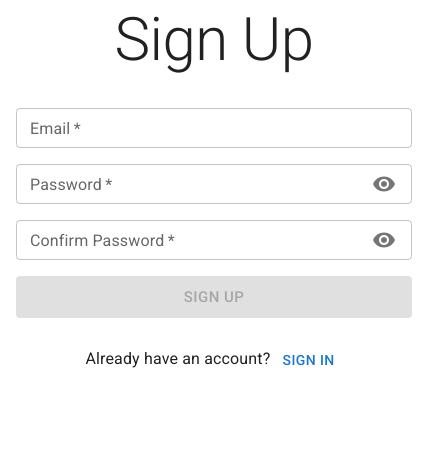
Scenario: Register › should require password confirmation
Clear the password field with placeholder "Password": {"x": 188, "y": 184} [16, 164, 359, 204]
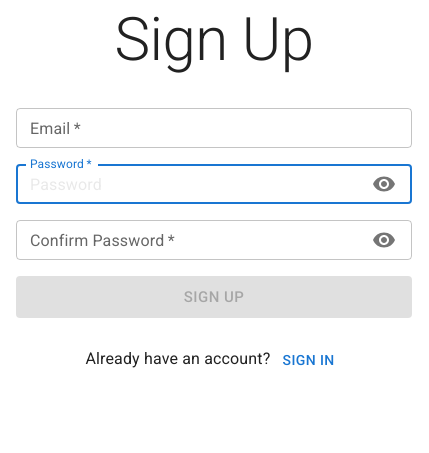
Clear the password field with placeholder "Confirm Password": {"x": 188, "y": 240} [16, 220, 359, 260]
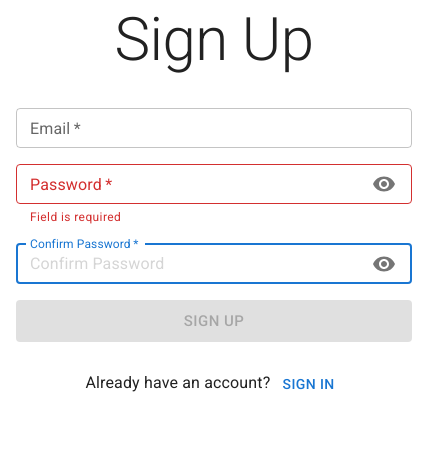
In the password field with placeholder "Password": {"x": 188, "y": 184} [16, 164, 359, 204], type "some password"
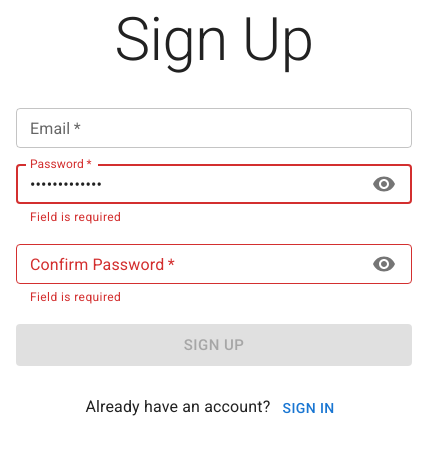
In the password field with placeholder "Confirm Password": {"x": 188, "y": 264} [16, 244, 359, 284], type "another password"
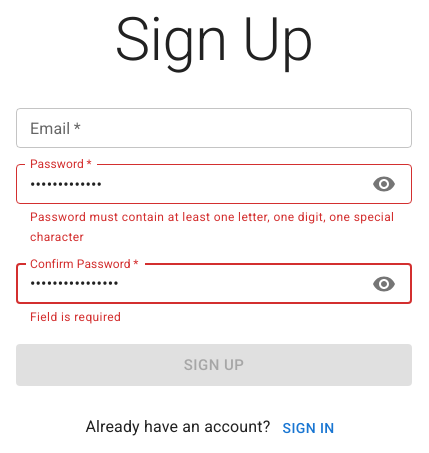
Click the password field with placeholder "Password": {"x": 188, "y": 184} [16, 164, 359, 204]
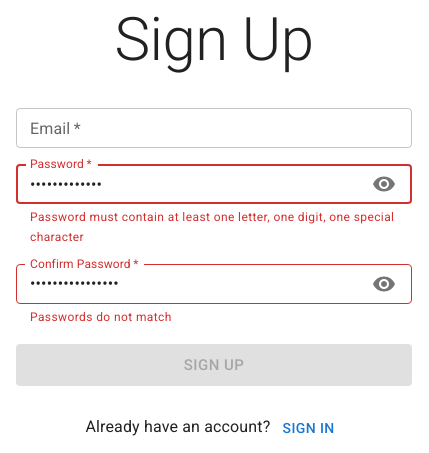
Now the text "Passwords do not match" is shown, box [30, 310, 172, 324]
